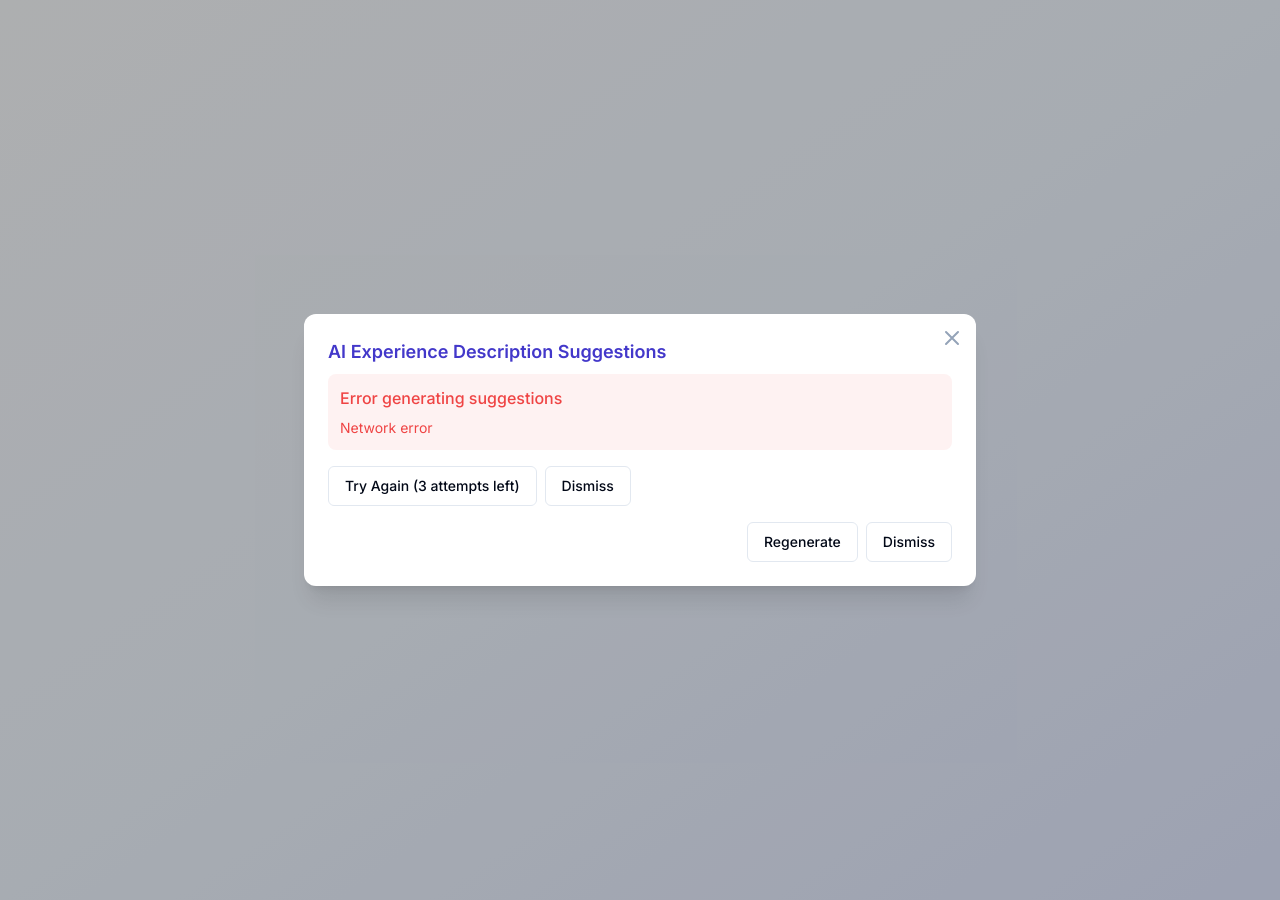
Test case: AISuggestionModal › Error Handling › should show refresh page button after max retries
Click the button "Try Again (3 attempts left)": (432, 486) [328,466,537,506]
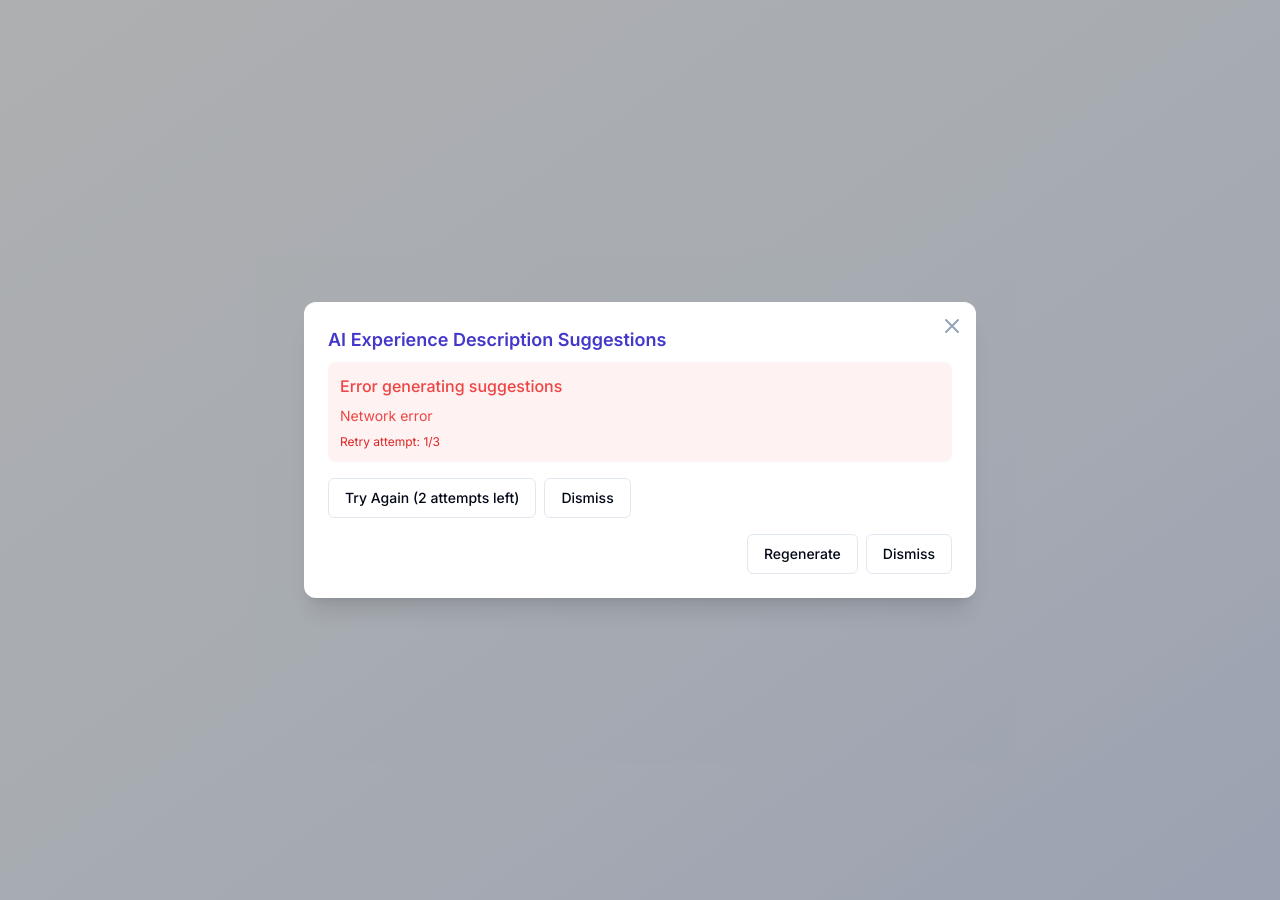
expect the button "Try Again (2 attempts left)" is shown: met
Click the button "Try Again (2 attempts left)": (432, 498) [328,478,536,518]
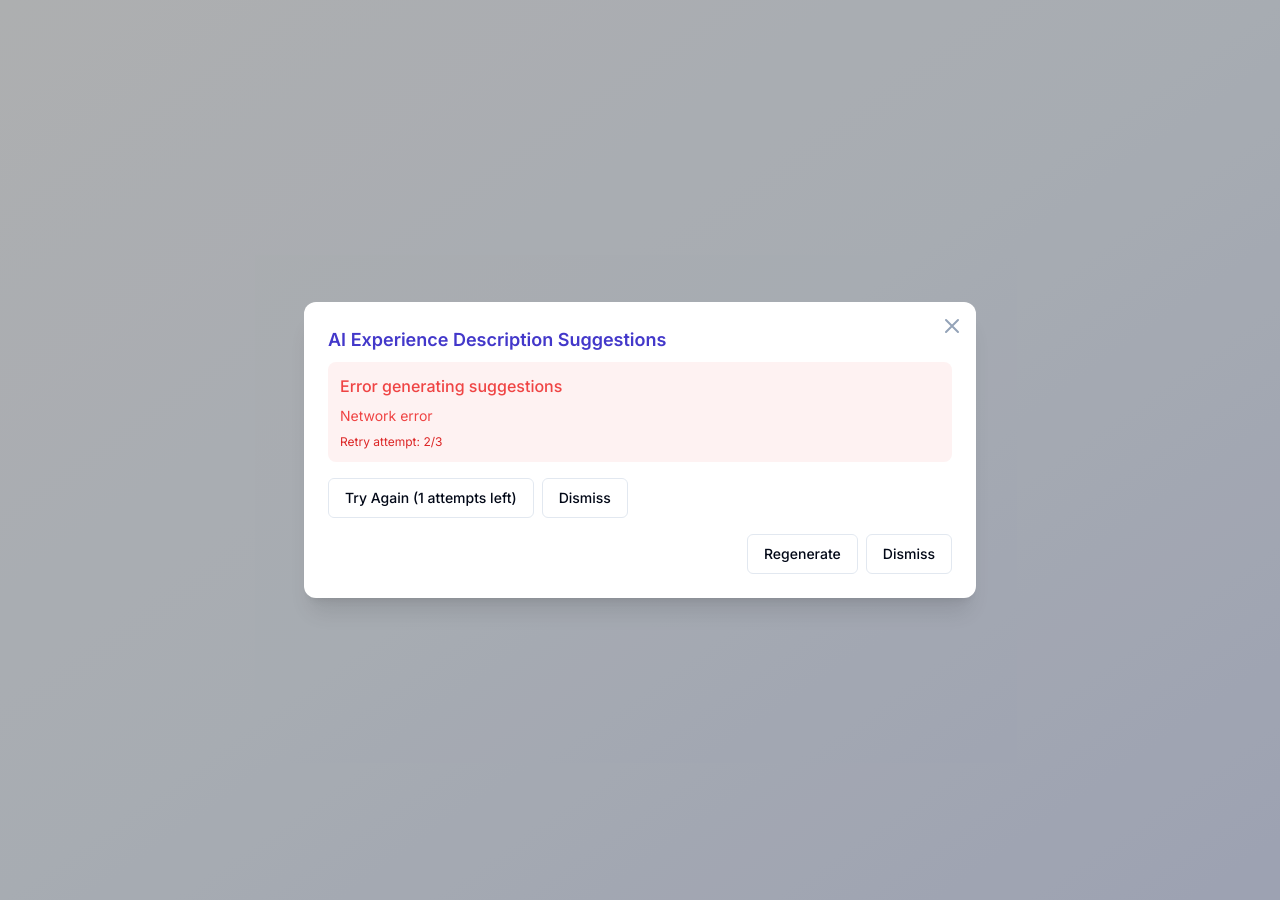
Click the button "Try Again (1 attempts left)": (431, 498) [328,478,534,518]
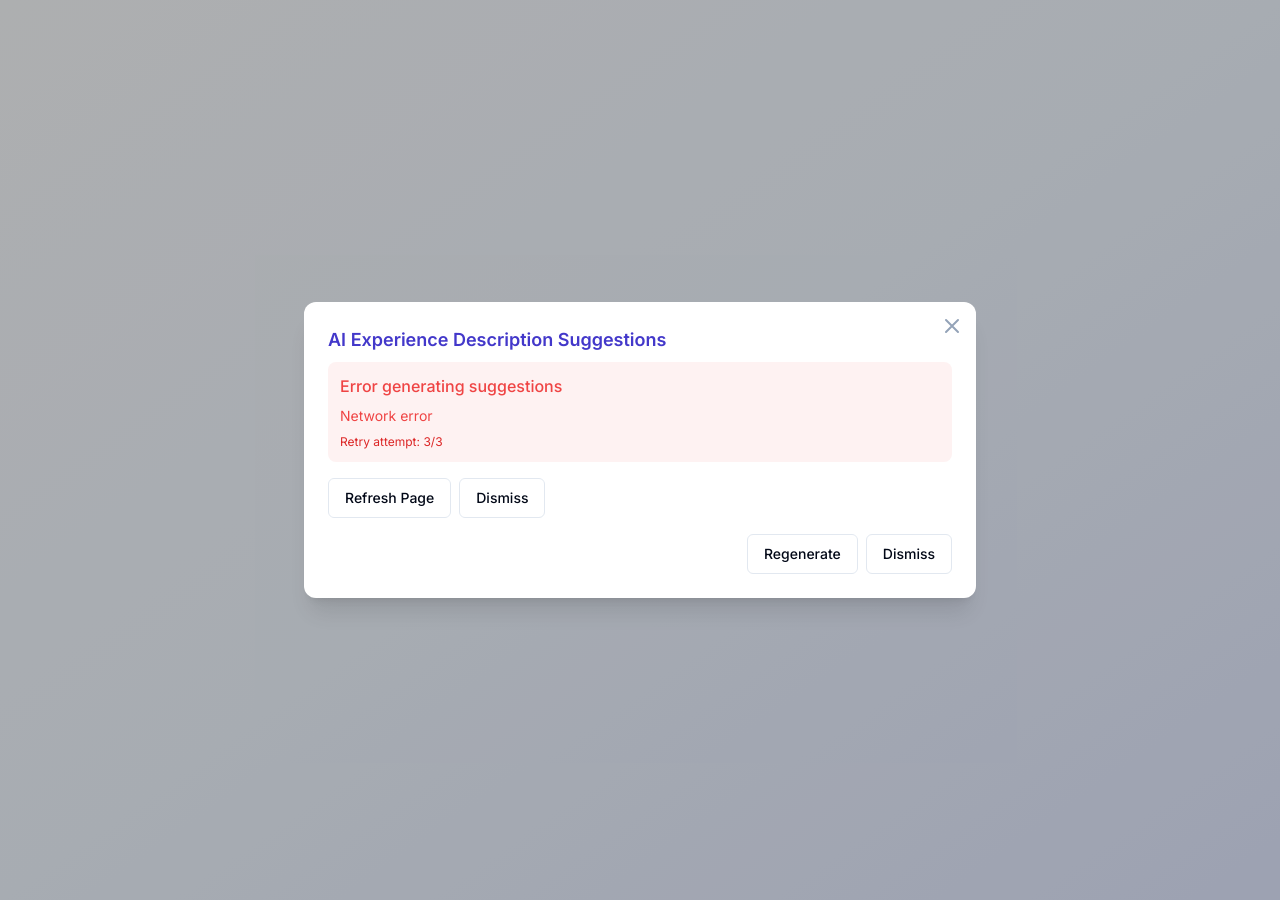
expect the button "Refresh Page" is shown: met, box [328,478,451,518]
